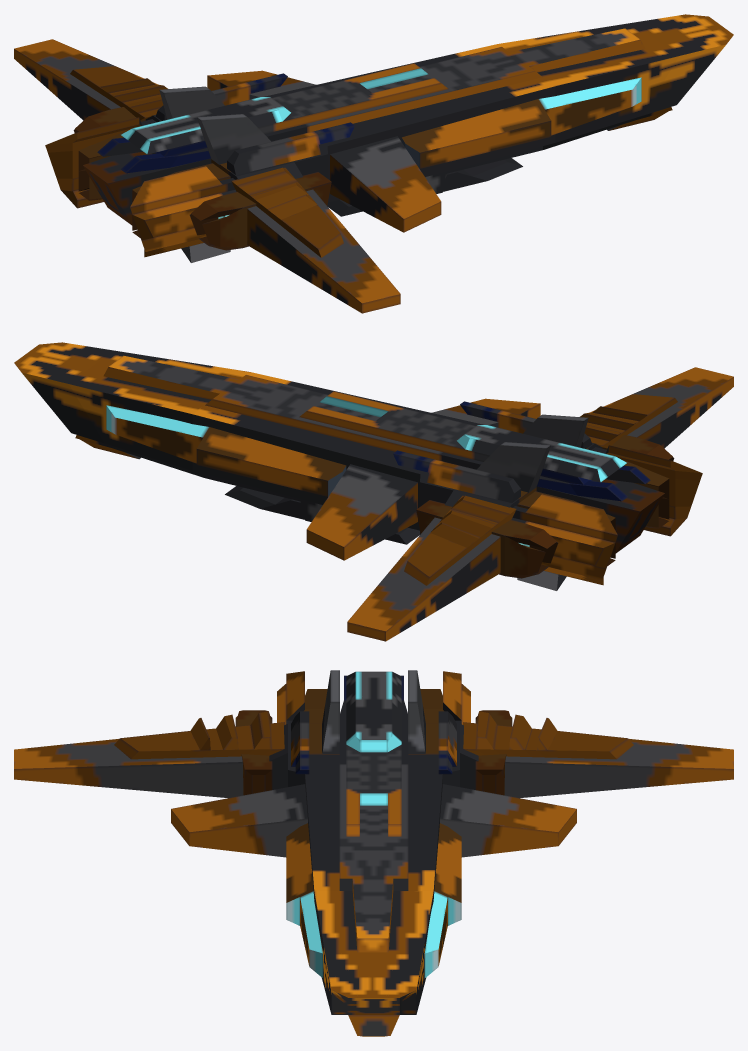
Rendered from SpaceShip.obj.
3 views of the same model, one above another, from view 1: azimuth 30°, elevation 25°; view 2: azimuth 150°, elevation 25°; view 3: azimuth 270°, elevation 25° (orthographic). The views are drawn at different scales.
Visible parts, largest first — view 1: cuboid, body, wing 2, wing 4, wing 1, wing 3; view 2: cuboid, body, wing 1, wing 3, wing 2, wing 4; view 3: cuboid, body, wing 1, wing 2, wing 3, wing 4.
Boxes of the visible parts, <box> form: cuboid: <box>45,63,641,257</box>; body: <box>83,14,733,262</box>; wing 2: <box>247,189,400,313</box>; wing 4: <box>330,136,441,232</box>; wing 1: <box>14,39,158,120</box>; wing 3: <box>207,70,316,96</box>; cuboid: <box>106,391,702,585</box>; body: <box>14,342,664,590</box>; wing 1: <box>347,517,500,641</box>; wing 3: <box>306,464,417,560</box>; wing 2: <box>589,367,733,448</box>; wing 4: <box>431,398,540,424</box>; cuboid: <box>114,670,633,978</box>; body: <box>269,675,478,1036</box>; wing 1: <box>504,738,733,798</box>; wing 2: <box>14,738,243,798</box>; wing 3: <box>440,784,576,857</box>; wing 4: <box>171,784,307,857</box>.
Bounding box in the file's own units: 2.56 × 0.5189 × 2.44.
Materials: 1 (1 with a texture image).
